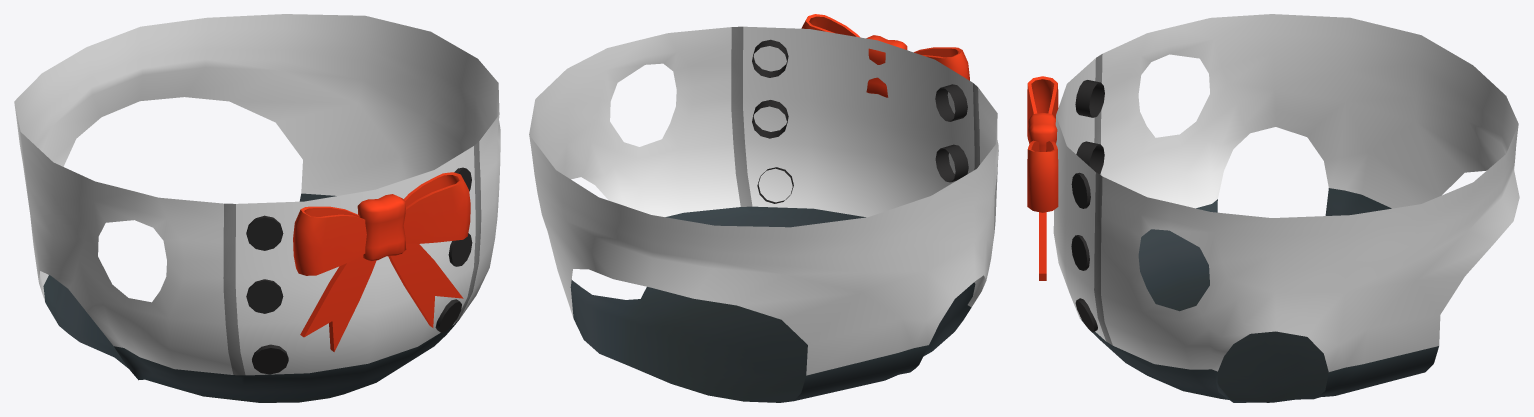
Rendered from Cloth_Chef.fbx.
3 renders of one model, left to right at view 1: azimuth 30°, elevation 25°; view 2: azimuth 150°, elevation 25°; view 3: azimuth 270°, elevation 25°, orthographic. The views are drawn at different scales.
Parts seen in each view (by area): view 1: Cloth_Chef; view 2: Cloth_Chef; view 3: Cloth_Chef.
Part boxes in pixels (x1,y1,x2,y2): Cloth_Chef: (14, 14, 500, 402); Cloth_Chef: (529, 14, 998, 402); Cloth_Chef: (1027, 14, 1519, 402).
Bounding box in the file's own units: 135 × 76.45 × 137.
